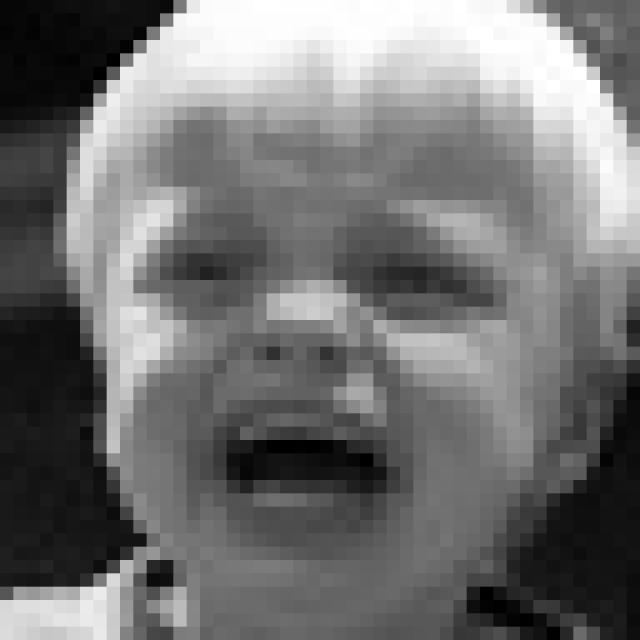sad: (119, 202, 512, 541)
